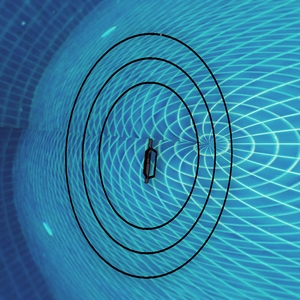circle: (51, 28, 242, 296)
submarine: (145, 143, 156, 183)
